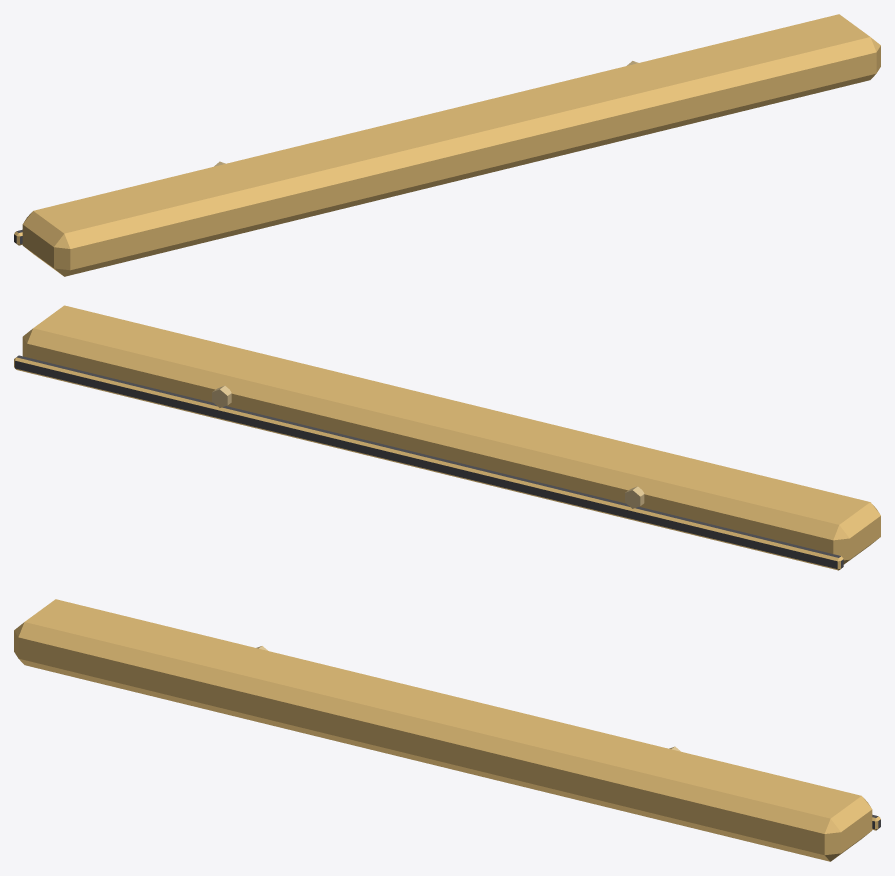
The model's file is Ledge.fbx.
The picture shows the model from 3 angles, top to bottom: view 1: azimuth 30°, elevation 25°; view 2: azimuth 150°, elevation 25°; view 3: azimuth 330°, elevation 25°; orthographic projection.
Parts seen in each view (by area): view 1: Ledge; view 2: Ledge; view 3: Ledge.
Boxes of the visible parts, x1=… form: Ledge: x1=14, y1=14, x2=880, y2=276; Ledge: x1=14, y1=305, x2=880, y2=570; Ledge: x1=14, y1=599, x2=880, y2=861.
Bounding box in the file's own units: 1.1 × 0.055 × 0.109.
